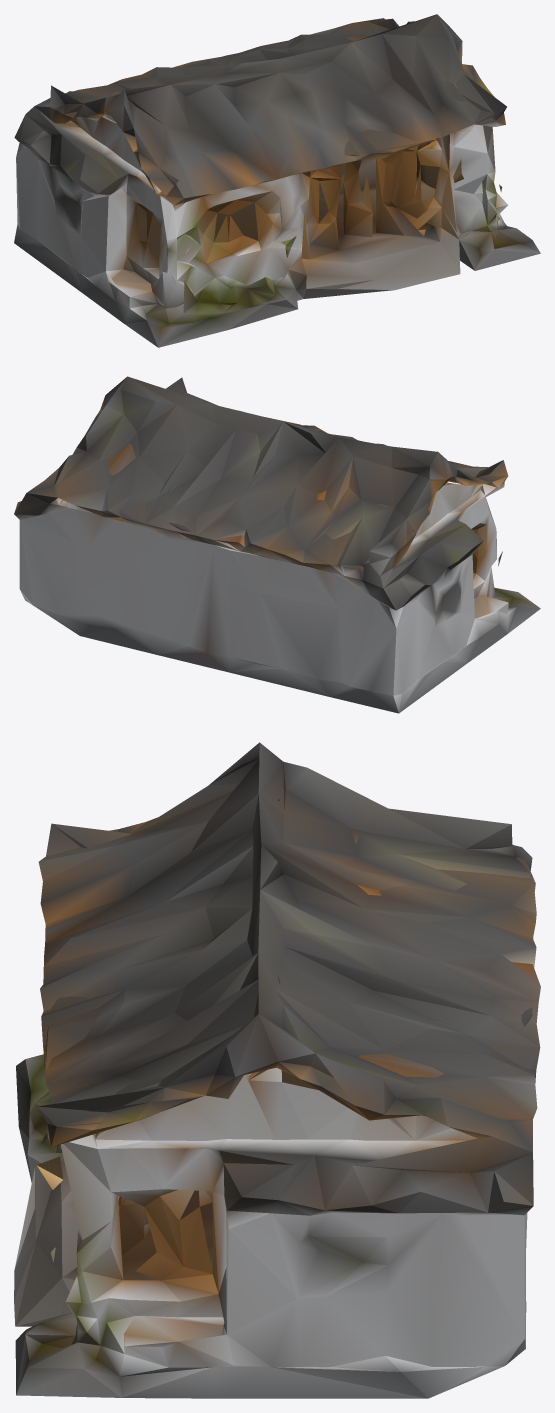
The model's file is lib_courtyard.vc2.glb.
The picture shows the model from 3 angles, top to bottom: view 1: azimuth 30°, elevation 25°; view 2: azimuth 150°, elevation 25°; view 3: azimuth 270°, elevation 25°; orthographic projection. The views are drawn at different scales.
Visible parts, largest first — view 1: lib_courtyard; view 2: lib_courtyard; view 3: lib_courtyard.
Part boxes in pixels (box(x1,y1,x2,y2)): lib_courtyard: box(14, 14, 540, 347); lib_courtyard: box(14, 376, 540, 713); lib_courtyard: box(14, 742, 540, 1398).
Size of the model in its own units: 1.86 by 0.9047 by 1.22.
